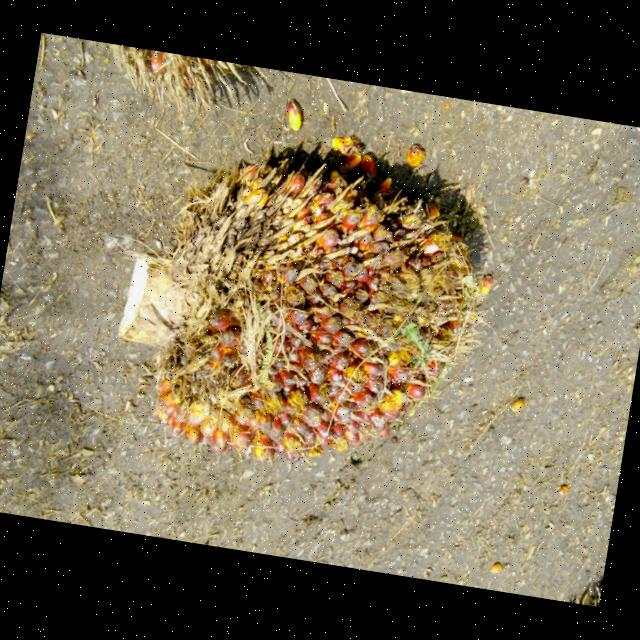Ripe: (113, 131, 493, 465)
